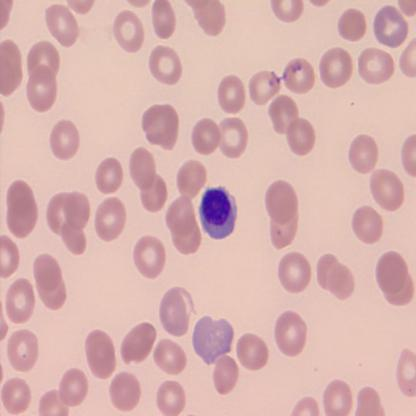NRC: (197, 183, 239, 241)
